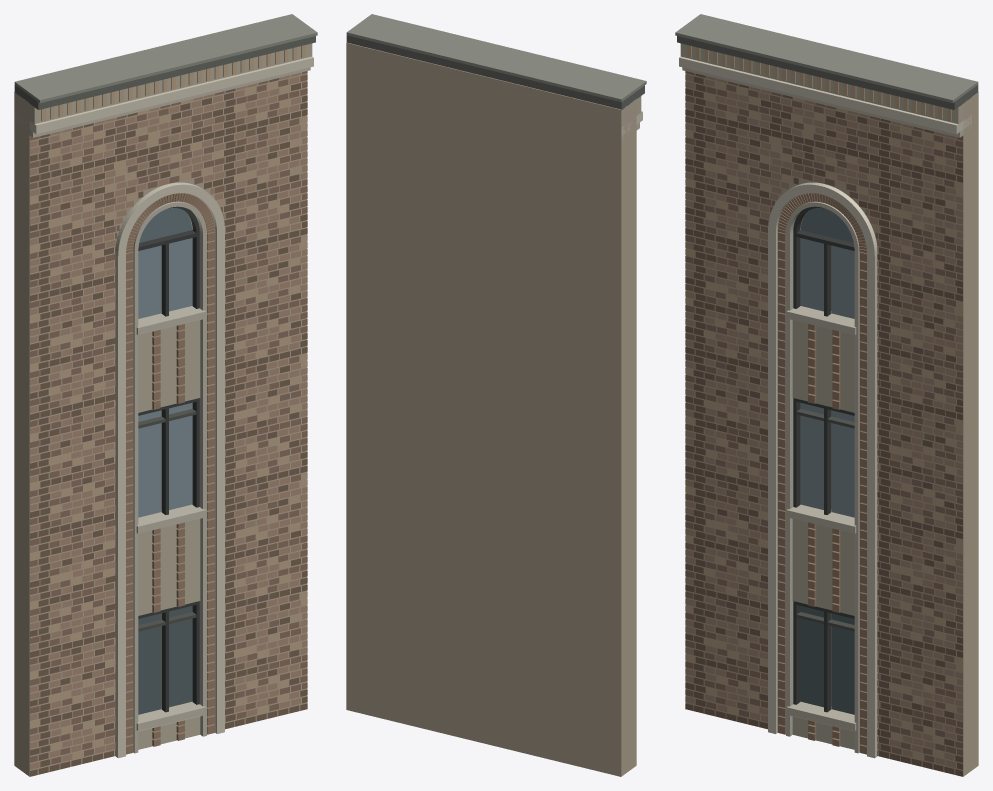
Rendered from hongkou-guangdong-theatre-arched-window-bay-raw.glb.
3 renders of one model, left to right at view 1: azimuth 30°, elevation 25°; view 2: azimuth 150°, elevation 25°; view 3: azimuth 330°, elevation 25°, orthographic.
Visible parts, largest first — view 1: 广东大戏院临街右翼三层窗带与砖券; view 2: 广东大戏院临街右翼三层窗带与砖券; view 3: 广东大戏院临街右翼三层窗带与砖券.
Part boxes in pixels (x1,y1,x2,y2): 广东大戏院临街右翼三层窗带与砖券: [14, 14, 317, 776]; 广东大戏院临街右翼三层窗带与砖券: [346, 14, 646, 776]; 广东大戏院临街右翼三层窗带与砖券: [675, 14, 978, 776].
Bounding box in the file's own units: 3.95 × 9.3 × 0.635.
